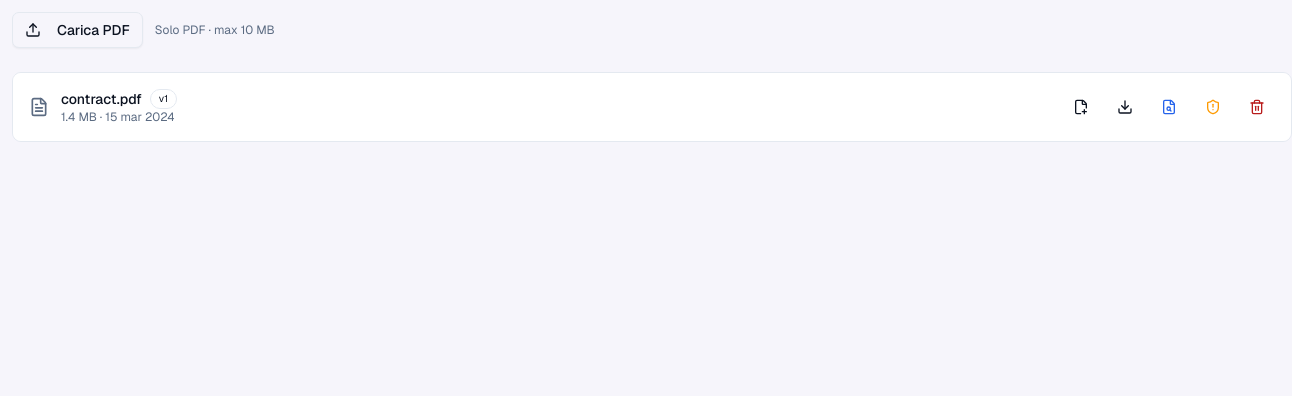
Test: DocumentsTab › shows analysis results after clicking analyze button
Click the button titled "Estrai campi". click: (1169, 107)
box: [1151, 91, 1187, 123]
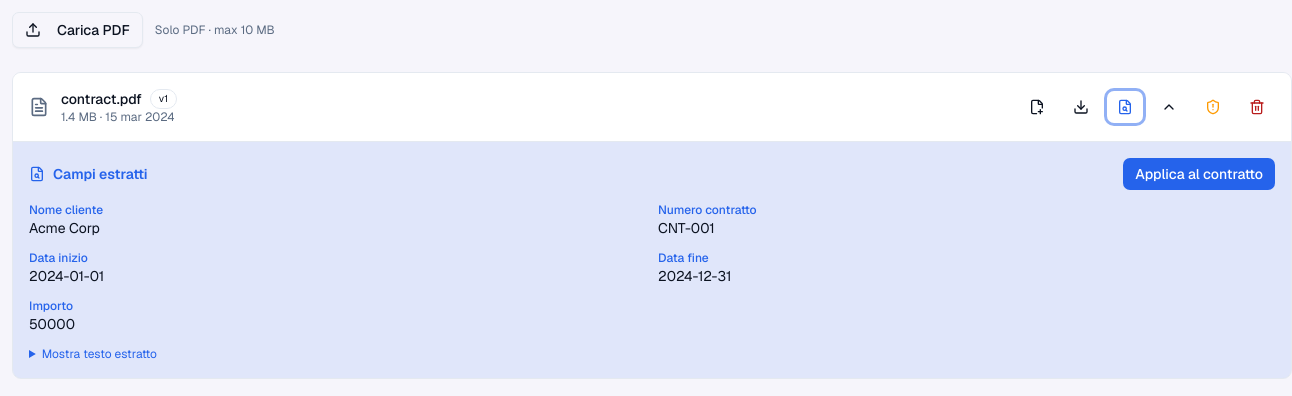
Expected: the heading "Campi estratti" is shown, [29, 164, 148, 184]
Expected: the text "Acme Corp" is shown, [29, 219, 100, 237]
Expected: the text "CNT-001" is shown, [658, 219, 715, 237]
